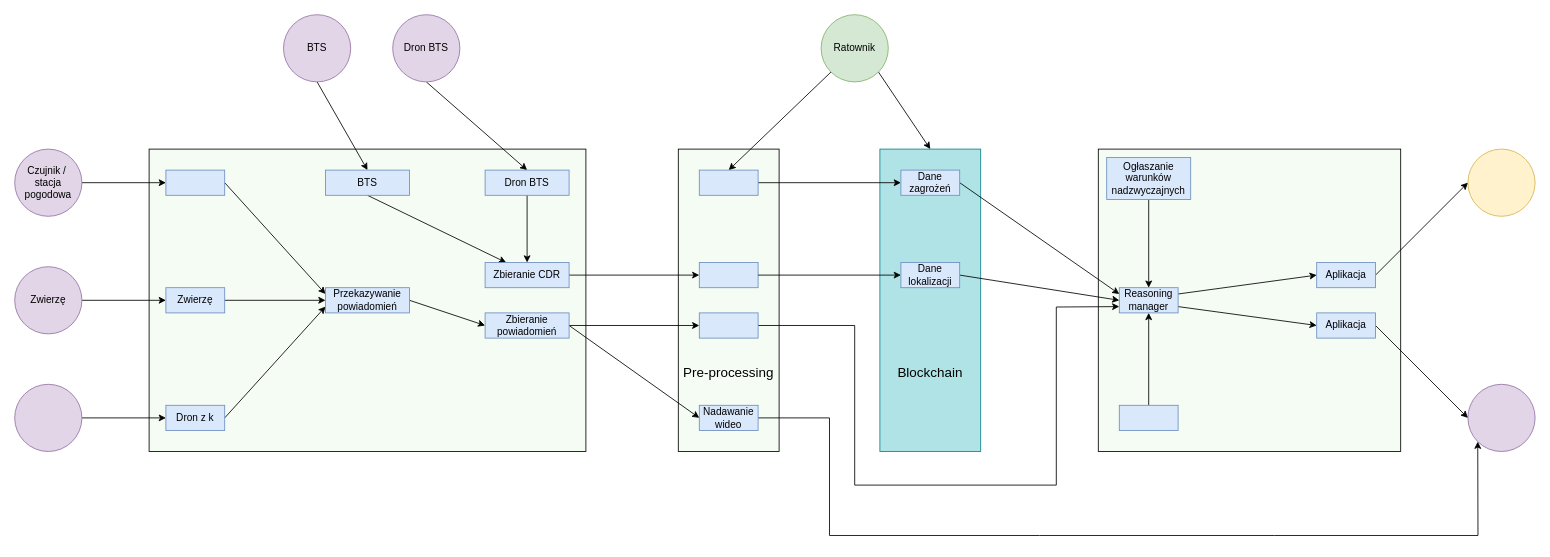
Some shapes in this 1550 by 557 pixel diagram are drawn without their labels. Here are the shapes that lost their labels. From the top down, the box of each, then its label:
(165, 169, 225, 195): Czujnik / sp
(698, 169, 758, 195): Ogłaszanie lawiny
(1467, 148, 1535, 216): Smartfon
(698, 262, 758, 288): Lokalizacja obiektów
(148, 148, 586, 452): Zbieranie danych
(1097, 148, 1401, 452): Podsumowanie
(698, 312, 758, 338): Badanie otoczenia
(14, 383, 82, 452): Dron z kamerą
(1118, 404, 1178, 430): Solver SAT
(1467, 383, 1535, 452): Komputer ratownika
